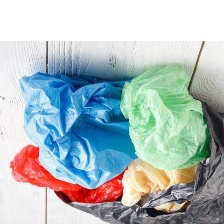plastic_bag: (52, 94, 223, 224), (15, 69, 142, 190), (117, 60, 211, 172), (7, 142, 128, 207), (119, 154, 205, 210)
